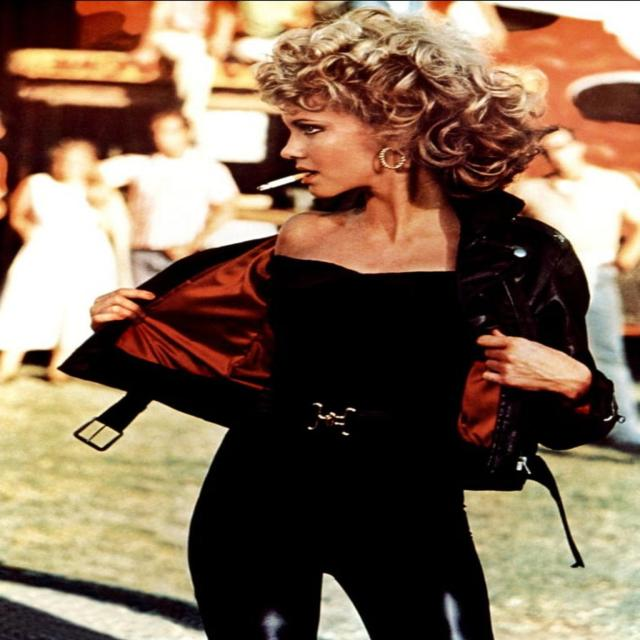smoking: (246, 34, 474, 205)
